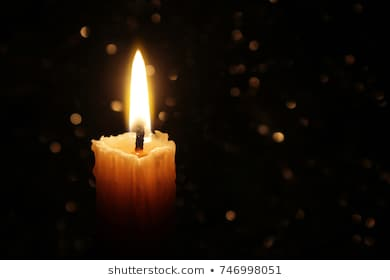Fire: (124, 49, 157, 138)
